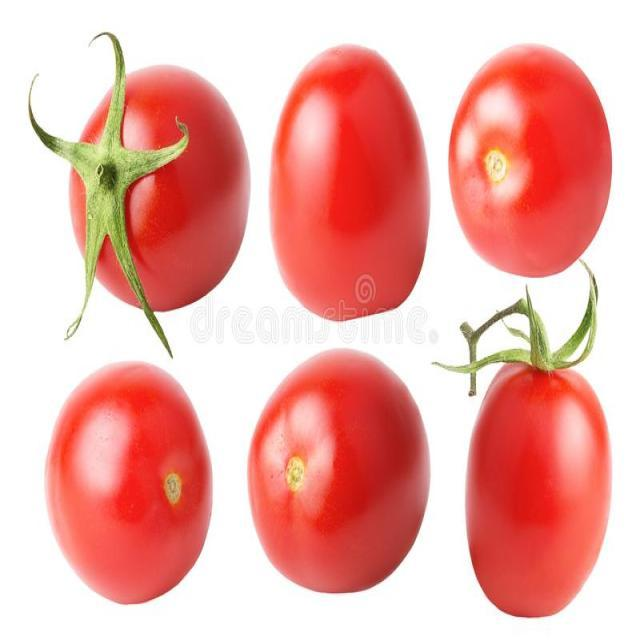kirmizi: (36, 34, 600, 620)
